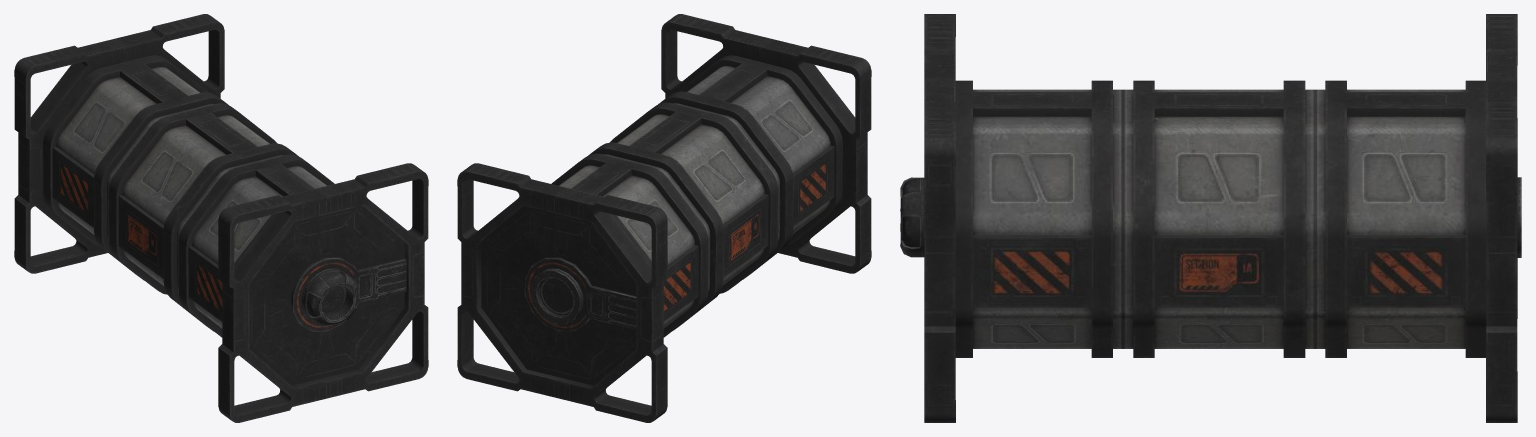
The model's file is crate_scifi.glb.
The picture shows the model from 3 angles, left to right: view 1: azimuth 30°, elevation 25°; view 2: azimuth 150°, elevation 25°; view 3: azimuth 270°, elevation 25°; orthographic projection. The views are drawn at different scales.
Parts seen in each view (by area): view 1: crate_scifi; view 2: crate_scifi; view 3: crate_scifi.
Boxes of the visible parts, bbox=[...] form: crate_scifi: bbox=[14, 14, 428, 422]; crate_scifi: bbox=[457, 14, 871, 422]; crate_scifi: bbox=[900, 14, 1521, 422].
Size of the model in its own units: 0.8139 by 0.812 by 1.6.
Materials: 1 (1 with a texture image).
